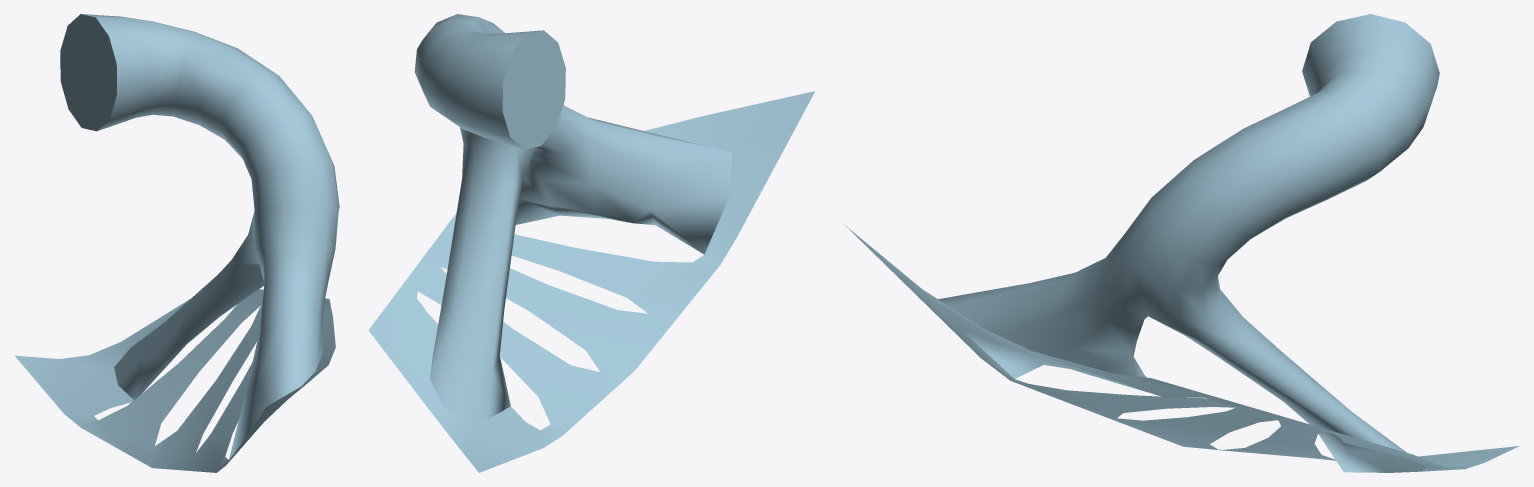
The model's file is articulacoes-ligament-of-head-of-femur-r.glb.
The picture shows the model from 3 angles, left to right: view 1: azimuth 30°, elevation 25°; view 2: azimuth 150°, elevation 25°; view 3: azimuth 270°, elevation 25°; orthographic projection. The views are drawn at different scales.
Visible parts, largest first — view 1: Ligament of head of femur.r; view 2: Ligament of head of femur.r; view 3: Ligament of head of femur.r.
Part boxes in pixels (x1,y1,x2,y2): Ligament of head of femur.r: (15,14,339,472); Ligament of head of femur.r: (368,14,815,472); Ligament of head of femur.r: (845,14,1519,472).
Bounding box in the file's own units: 0.0137 × 0.0245 × 0.0326.
